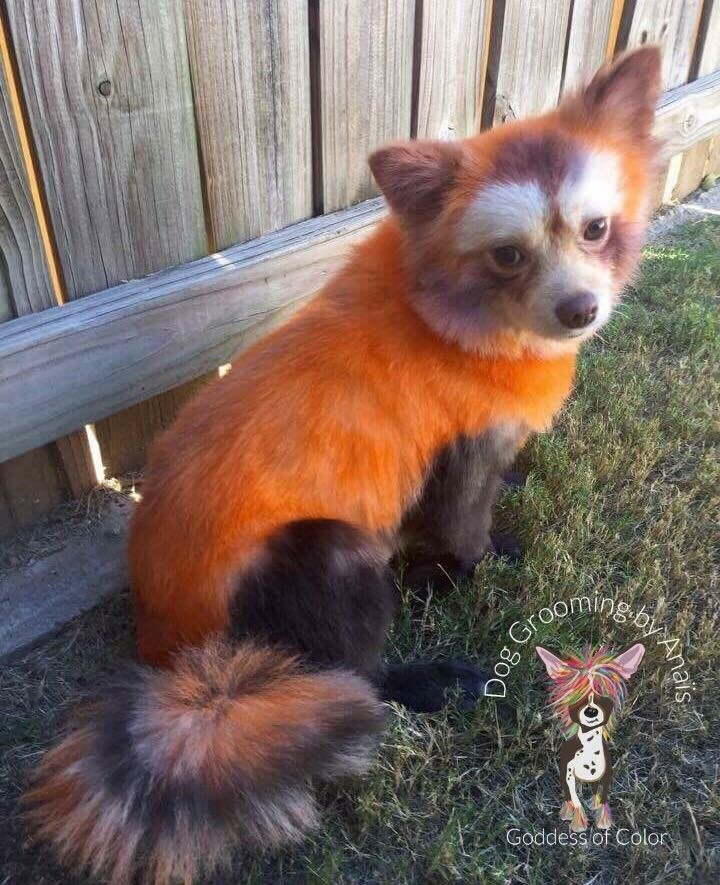red_panda: (99, 74, 658, 808)
